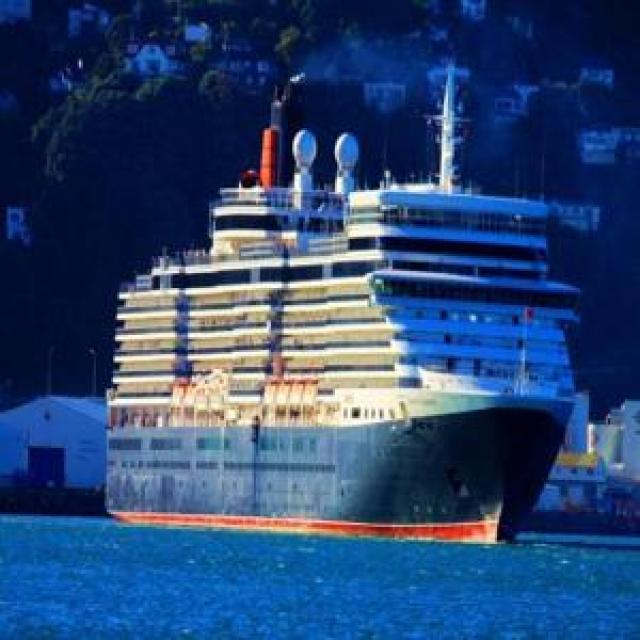passenger ship: (99, 128, 576, 543)
